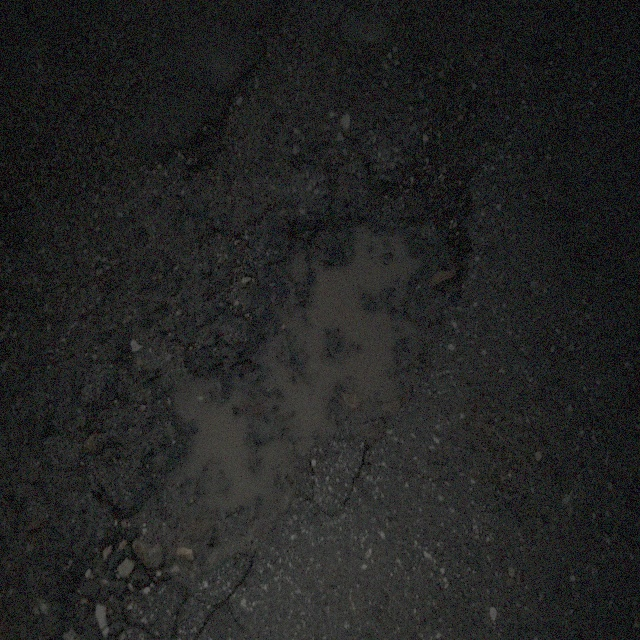pothole: (129, 138, 477, 590)
